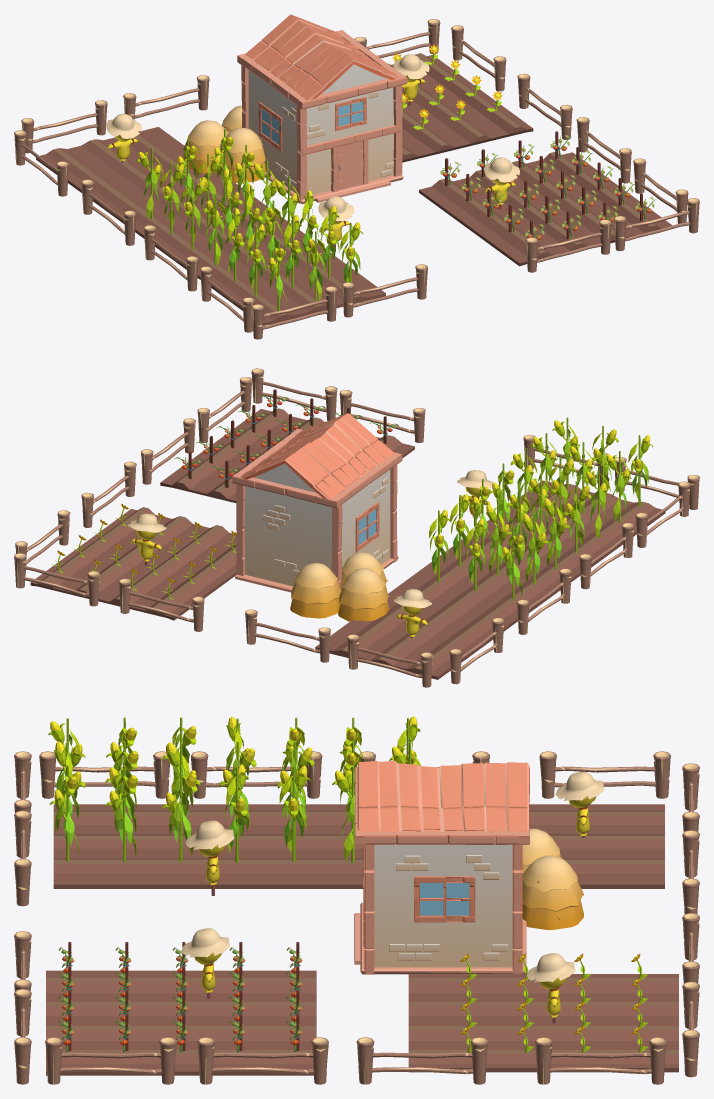
Rendered from Farm_01 (1).fbx.
3 renders of one model, top to bottom at view 1: azimuth 30°, elevation 25°; view 2: azimuth 150°, elevation 25°; view 3: azimuth 270°, elevation 25°, orthographic. The views are drawn at different scales.
Visible parts, largest first — view 1: Farm_Building, Ground1, Ground2, Ground3, Haystack1, Haystack, Fence14, Fence15, Fence13, Fence12, Fence4, Fence5 (+33 smaller); view 2: Farm_Building, Ground1, Ground3, Ground2, Haystack2, Haystack, Fence6, Fence5, Fence4, Fence7, Fence12, Fence15 (+35 smaller); view 3: Farm_Building, Ground1, Ground2, Ground3, Haystack2, Fence11, Fence10, Fence8, Fence9, Fence3, Fence, Fence1 (+29 smaller).
Part boxes in pixels (<box>): Farm_Building: <box>237,14,407,203</box>; Ground1: <box>36,127,385,325</box>; Ground2: <box>419,152,672,266</box>; Ground3: <box>388,53,533,162</box>; Haystack1: <box>219,127,265,182</box>; Haystack: <box>183,120,228,173</box>; Fence14: <box>342,264,428,317</box>; Fence15: <box>525,219,611,272</box>; Fence13: <box>251,286,337,339</box>; Fence12: <box>613,198,699,251</box>; Fence4: <box>21,100,107,153</box>; Fence5: <box>123,75,209,119</box>; Farm_Building: <box>232,413,402,594</box>; Ground1: <box>315,480,665,679</box>; Ground3: <box>30,507,236,620</box>; Ground2: <box>160,408,414,502</box>; Haystack2: <box>290,563,341,618</box>; Haystack: <box>338,568,389,621</box>; Fence6: <box>118,578,204,631</box>; Fence5: <box>245,609,330,662</box>; Fence4: <box>347,634,432,687</box>; Fence7: <box>14,553,99,606</box>; Fence12: <box>251,368,337,420</box>; Fence15: <box>339,390,425,442</box>; Farm_Building: <box>354,760,529,974</box>; Ground1: <box>53,804,664,888</box>; Ground2: <box>46,970,316,1075</box>; Ground3: <box>408,974,678,1072</box>; Haystack2: <box>522,855,583,929</box>; Fence11: <box>45,1037,176,1084</box>; Fence10: <box>197,1037,328,1084</box>; Fence8: <box>535,1037,666,1084</box>; Fence9: <box>356,1037,488,1084</box>; Fence3: <box>539,751,670,798</box>; Fence: <box>39,751,169,798</box>; Fence1: <box>190,751,322,798</box>.
Bounding box in the file's own units: 122 × 35.3 × 120.
1 material, 1 textured.
